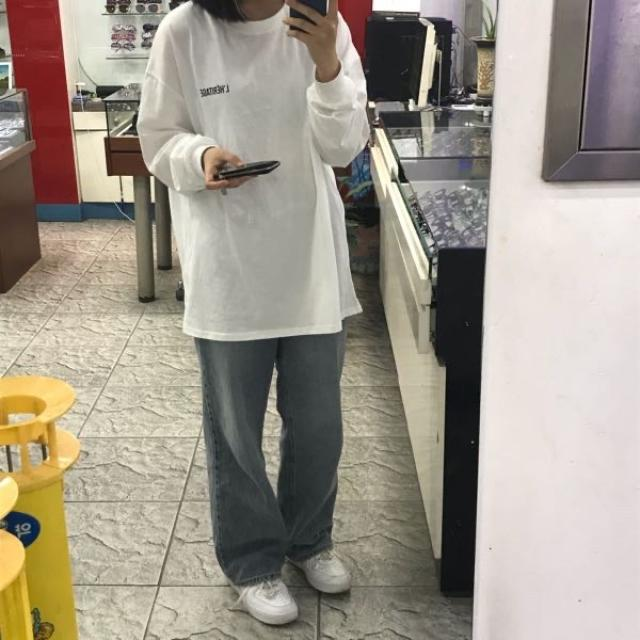denimpants: (200, 330, 348, 586)
longsleeve: (138, 1, 373, 340)
